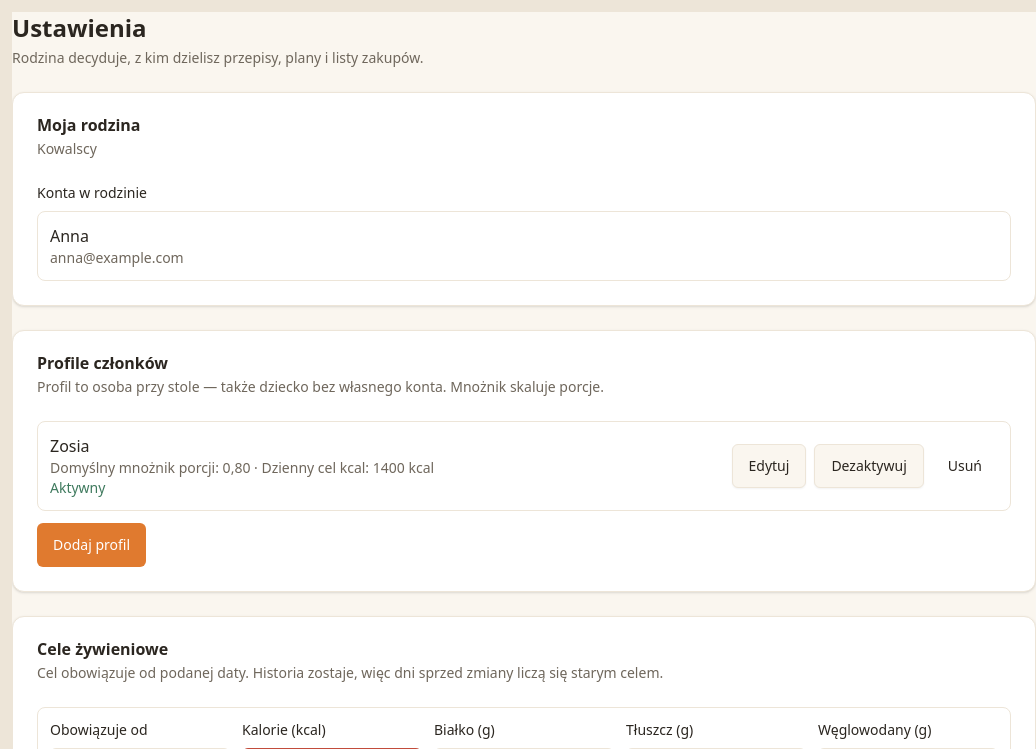
Test: UstawieniaPage › edycja wypełnia formularz wartościami profilu
This screenshot has width=1036, height=749.
Step 1. Click the button with test id "profile-edit-100" → (769, 466), box [732,444,806,488]
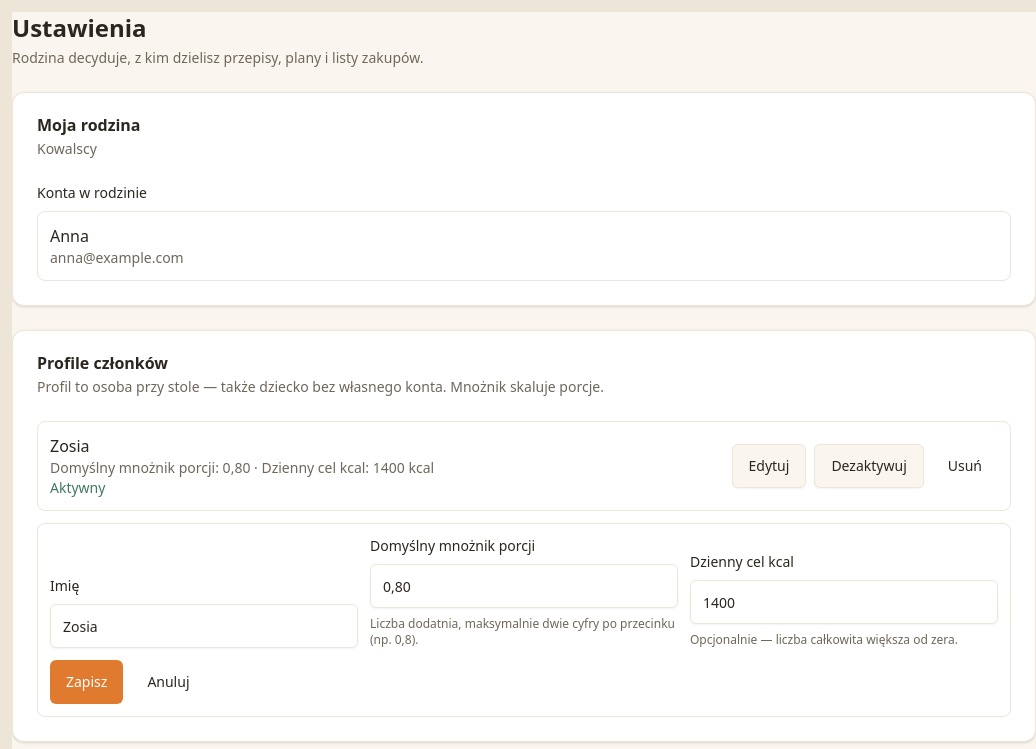
Expected: the field with test id "profile-name" holds "Zosia", [50,604,358,648]
Expected: the field with test id "profile-multiplier" holds "0,80", [370,564,678,608]
